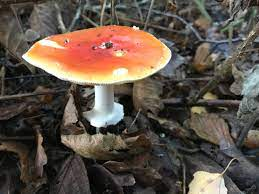orange: (21, 24, 170, 83)
